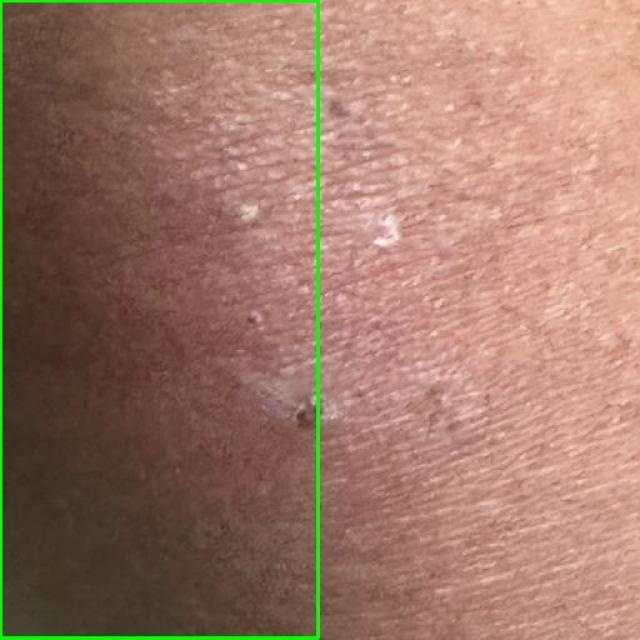Tinea Corporis: (0, 0, 319, 639)
